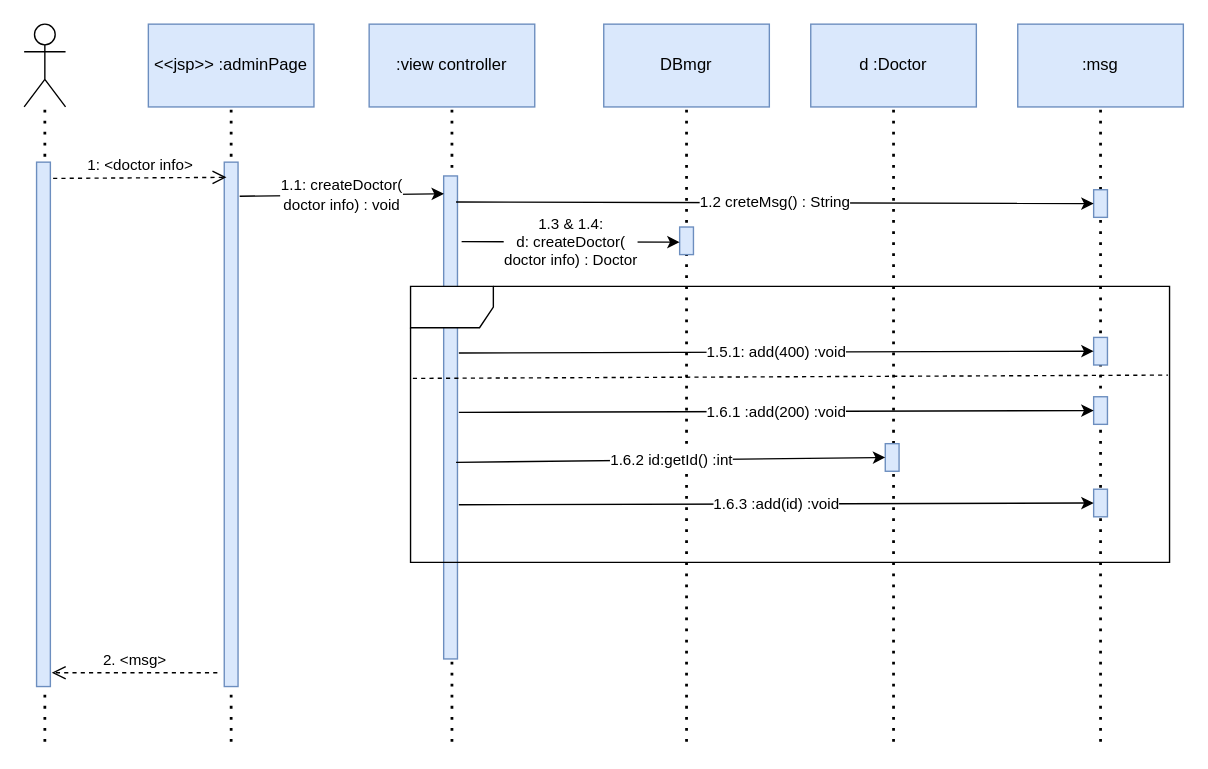
This 1208x769 diagram has some shape labels left out. Here are the shapes that lost their labels. From the top down, the centre of each, then its label:
At (x=44, y=65): "user".
At (x=789, y=423): "alt [ d == nul]".
